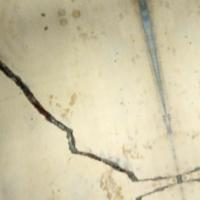crack: (1, 51, 161, 180)
